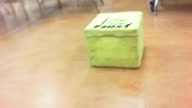cube: (84, 11, 142, 69)
